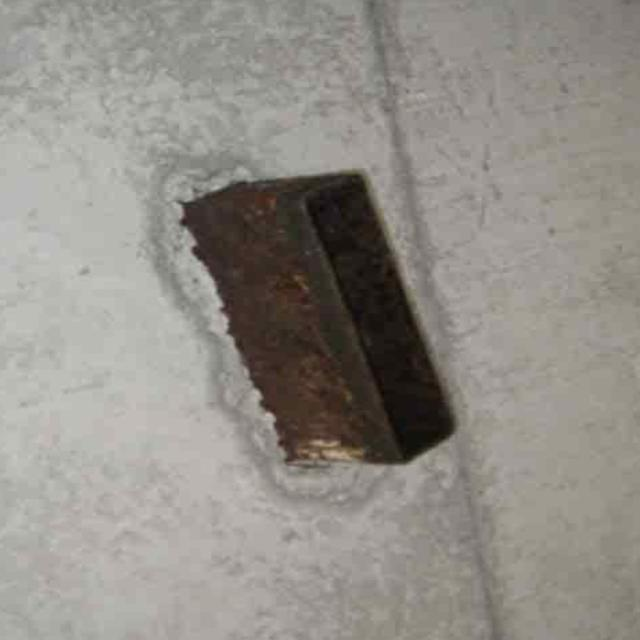corrosion: (171, 138, 443, 488)
